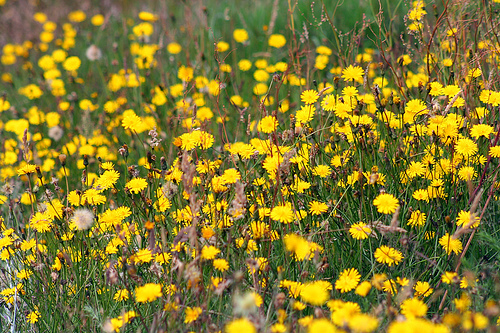dandelion: (371, 189, 401, 217), (96, 167, 120, 191), (269, 202, 295, 223), (229, 139, 254, 159), (176, 131, 199, 151), (101, 208, 124, 225), (121, 113, 141, 129)
